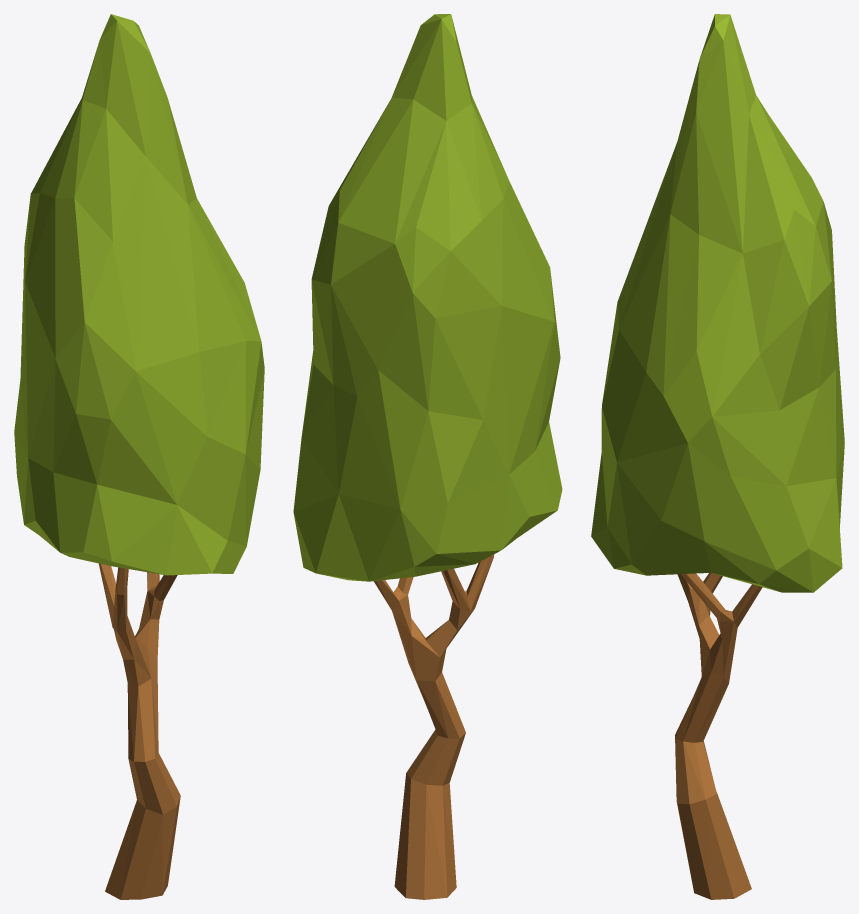
The model's file is tree_11.glb.
The picture shows the model from 3 angles, left to right: view 1: azimuth 30°, elevation 25°; view 2: azimuth 150°, elevation 25°; view 3: azimuth 270°, elevation 25°; orthographic projection.
Visible parts, largest first — view 1: Lowpoly_Tree_11_Material.004_0, Lowpoly_Tree_11_Material_0; view 2: Lowpoly_Tree_11_Material.004_0, Lowpoly_Tree_11_Material_0; view 3: Lowpoly_Tree_11_Material.004_0, Lowpoly_Tree_11_Material_0.
Boxes of the visible parts, x1,y1,x2,y2 form: Lowpoly_Tree_11_Material.004_0: (14, 14, 264, 575); Lowpoly_Tree_11_Material_0: (99, 563, 180, 899); Lowpoly_Tree_11_Material.004_0: (293, 14, 562, 581); Lowpoly_Tree_11_Material_0: (374, 554, 494, 899); Lowpoly_Tree_11_Material.004_0: (591, 14, 844, 592); Lowpoly_Tree_11_Material_0: (675, 573, 762, 899).
Size of the model in its own units: 0.2897 by 1.11 by 0.2967.
